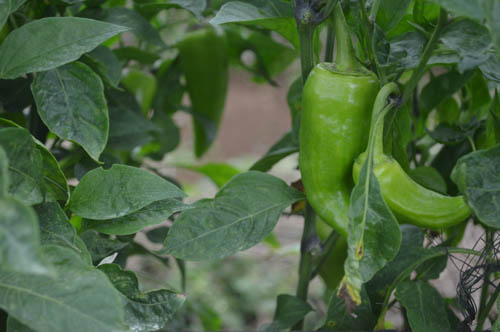ChiliPepper: (299, 65, 375, 240), (359, 162, 472, 234)
